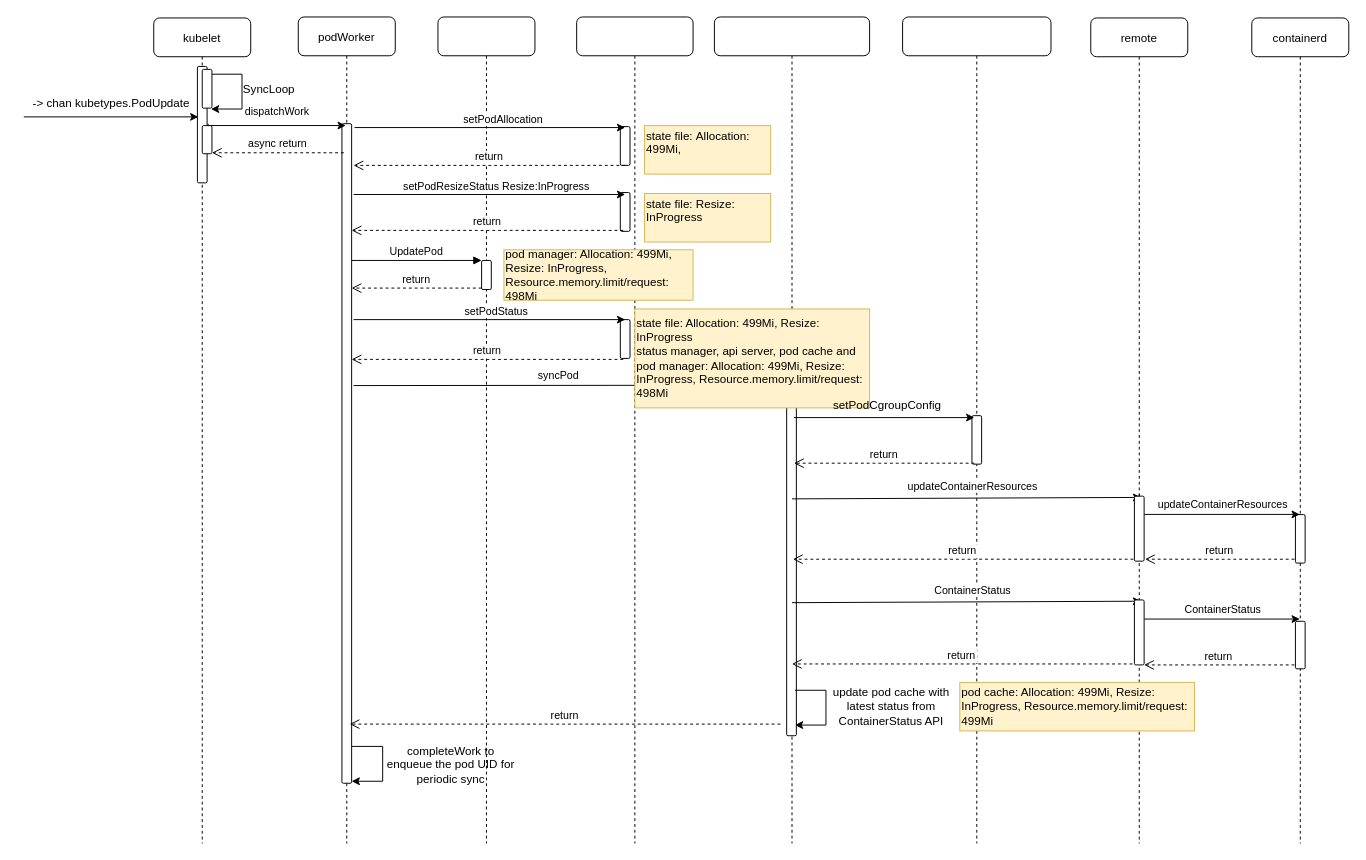
Image size: 1366x860. Some labels were removed from this diagram. The box of each missing label's shape, as (x1, y1, x2, y2) in pixels:
genericRuntimeManager: (713, 16, 870, 843)
podContainerManager: (902, 16, 1051, 843)
podManager: (437, 16, 535, 843)
statusManager: (576, 16, 693, 843)
